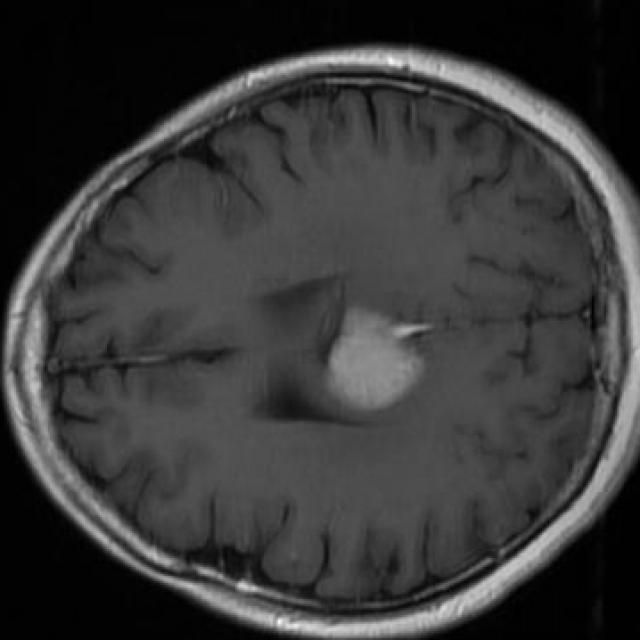meningioma: (330, 308, 415, 408)
